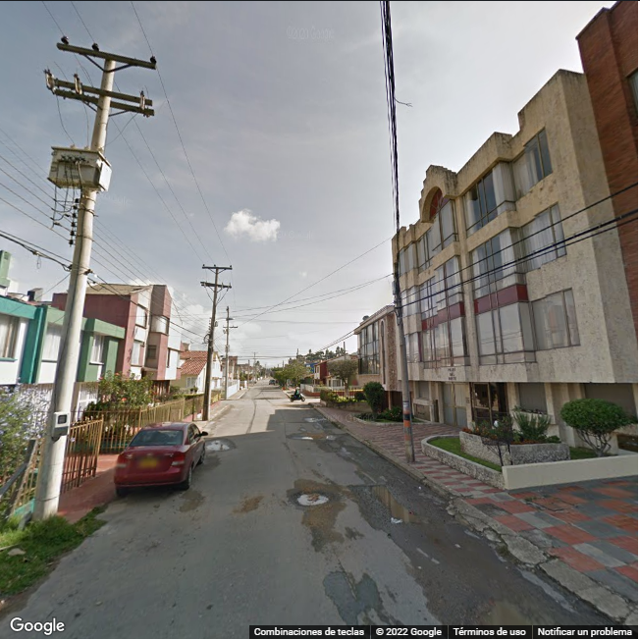D00: (325, 533, 368, 605), (118, 498, 159, 553)
D40: (362, 478, 424, 526), (475, 602, 548, 625), (291, 481, 335, 514)
